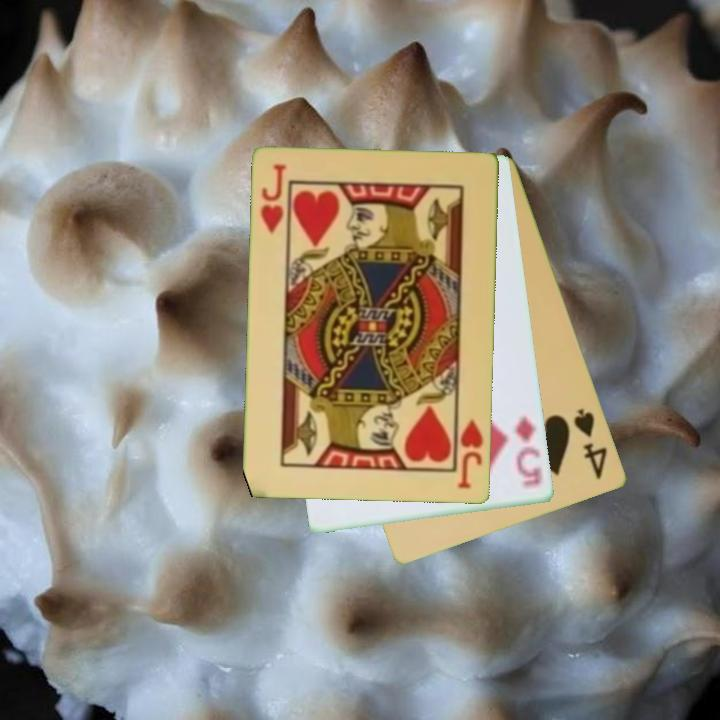4s: (570, 405, 611, 483)
5d: (512, 413, 547, 491)
Jh: (452, 409, 486, 492), (257, 161, 290, 237)
